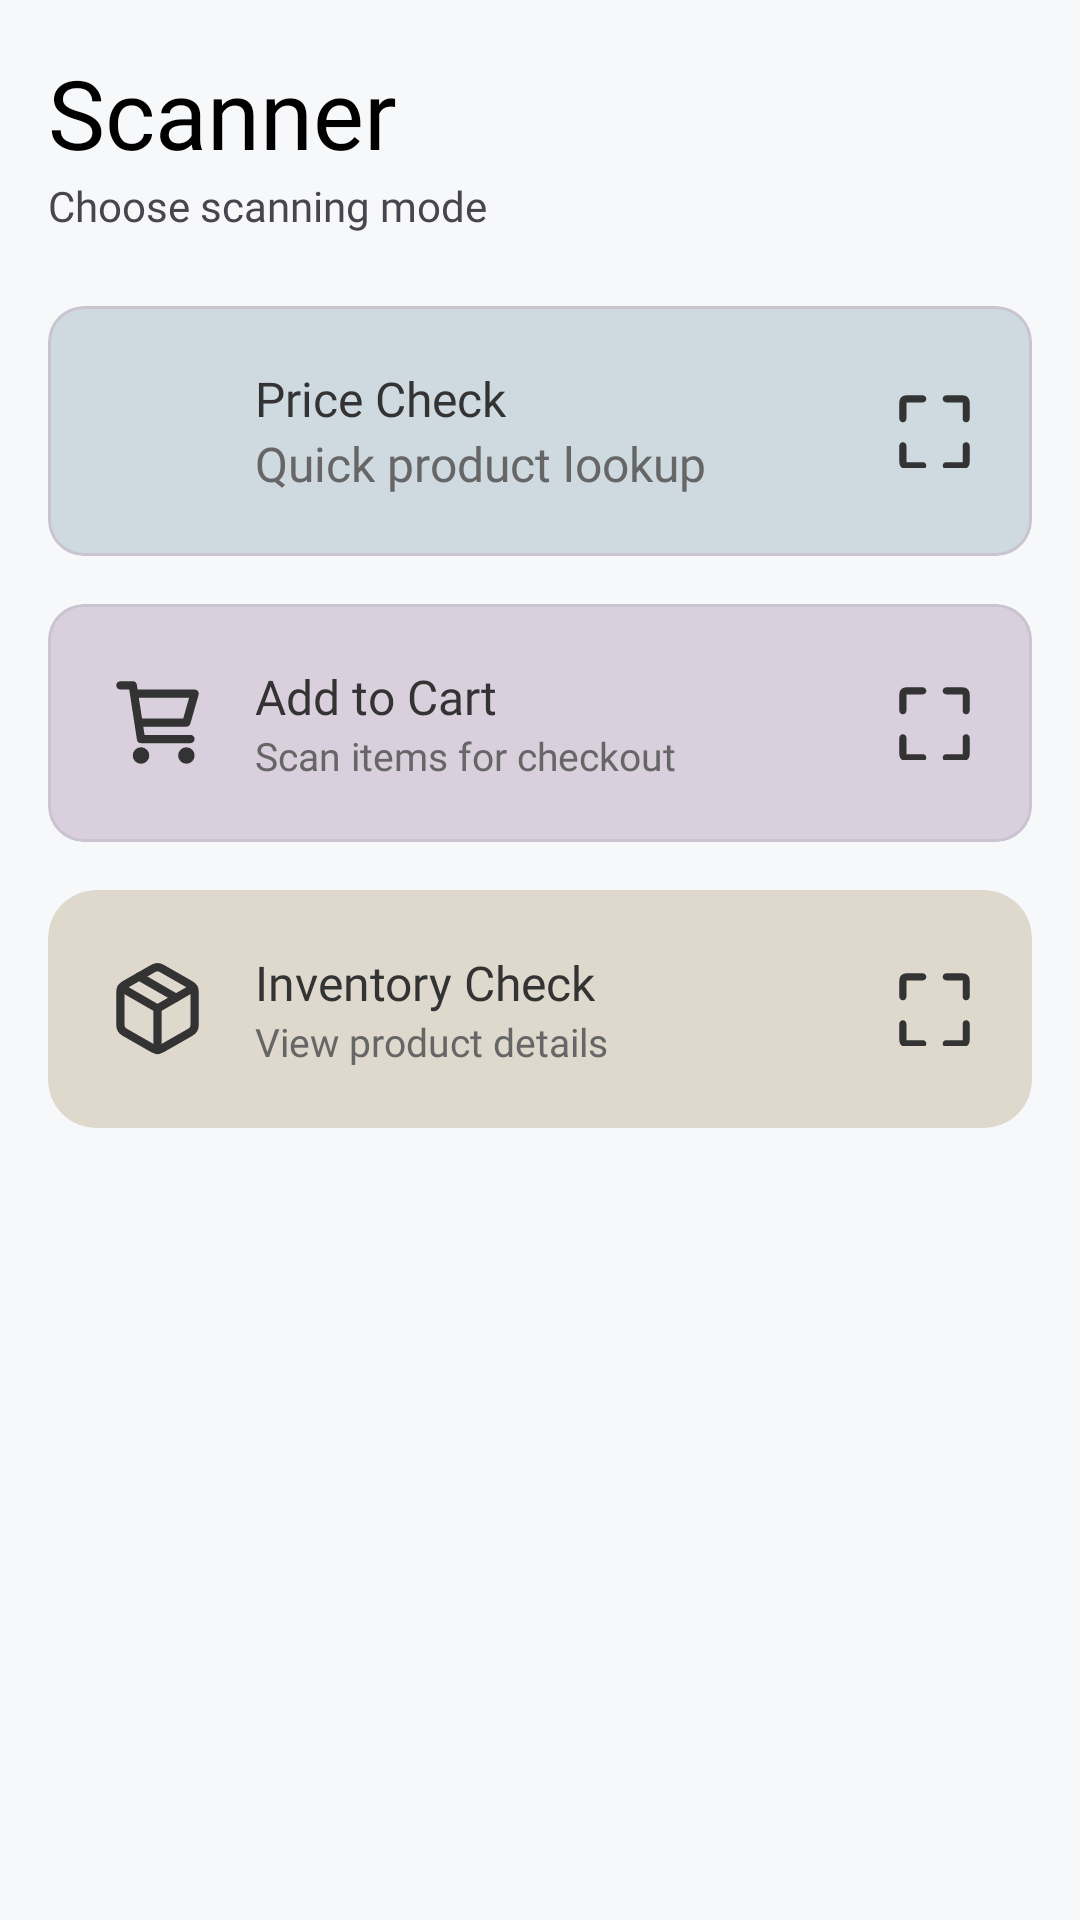

Screen size 1080 x 1920. Icon name, then its box in pixels as (x1, y1, x2, y2):
product box stroke: (116, 963, 199, 1055)
scanner frame: (899, 395, 970, 468), (899, 687, 970, 760), (899, 973, 970, 1046)
shopping cart stroke: (116, 681, 199, 764)
